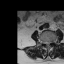CCS_normal: (46, 39, 48, 47)
LFS_severe_stenosis: (50, 39, 53, 44)
LLS_normal: (48, 40, 50, 45)
RFS_stenosis: (43, 39, 45, 45)
RLS_normal: (45, 39, 46, 46)
